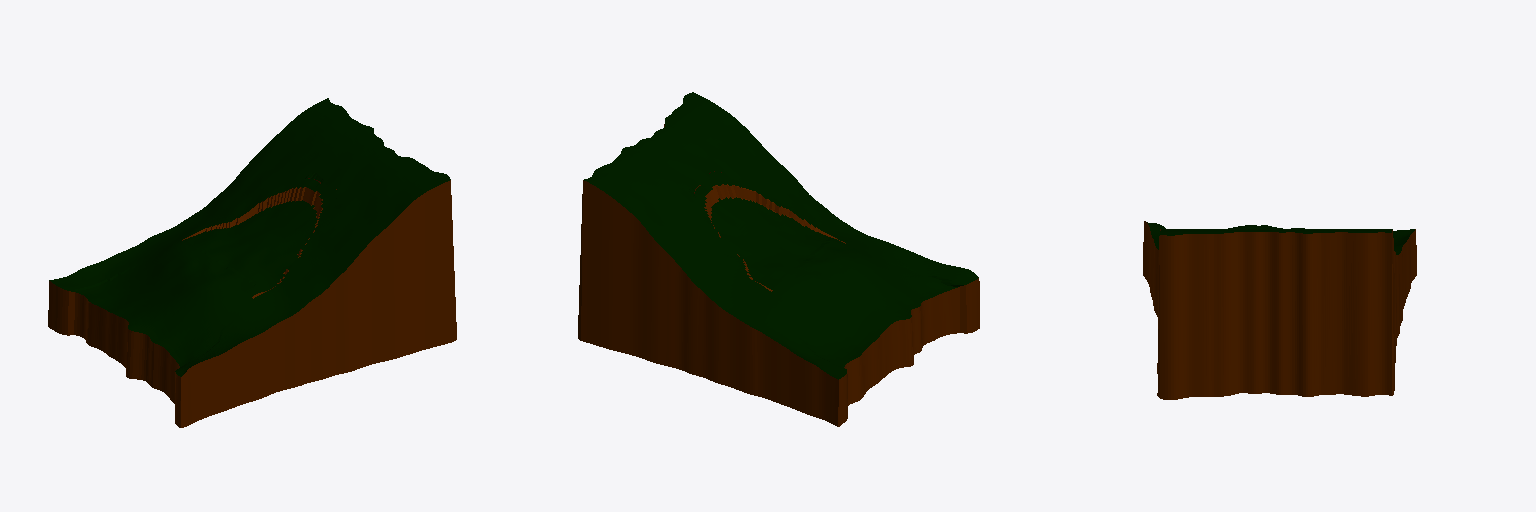
File: shanpo.obj
3 views of the same model, side by side, from view 1: azimuth 30°, elevation 25°; view 2: azimuth 150°, elevation 25°; view 3: azimuth 270°, elevation 25° (orthographic).
Parts seen in each view (by area): view 1: Plane002; view 2: Plane002; view 3: Plane002.
Part boxes in pixels (bbox=[...]): Plane002: bbox=[48, 98, 456, 427]; Plane002: bbox=[578, 92, 979, 426]; Plane002: bbox=[1143, 221, 1416, 399].
Bounding box in the file's own units: 21.06 × 12.21 × 17.38.